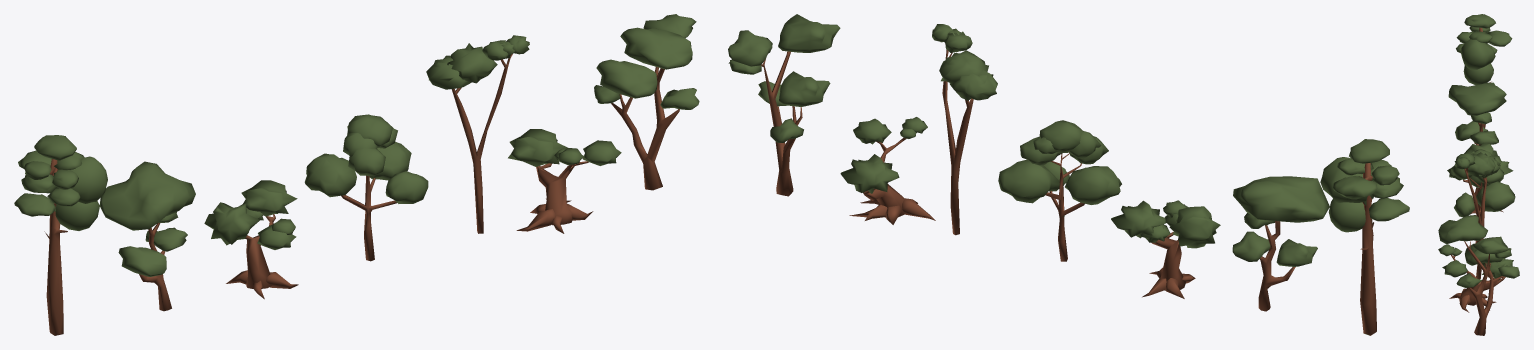
The model's file is Trees.fbx.
3 views of the same model, side by side, from view 1: azimuth 30°, elevation 25°; view 2: azimuth 150°, elevation 25°; view 3: azimuth 270°, elevation 25° (orthographic). The views are drawn at different scales.
Parts seen in each view (by area): view 1: BezierCurve.001, BezierCurve.011, BezierCurve.005, BezierCurve.003, BezierCurve.004, BezierCurve.013, BezierCurve.006; view 2: BezierCurve.005, BezierCurve.001, BezierCurve.011, BezierCurve.003, BezierCurve.004, BezierCurve.006, BezierCurve.013; view 3: BezierCurve.011, BezierCurve.001, BezierCurve.003, BezierCurve.005, BezierCurve.013, BezierCurve.006, BezierCurve.004.
Boxes of the visible parts, left/top/right/bottom form: BezierCurve.001: left=14, top=135, right=107, bottom=335; BezierCurve.011: left=594, top=14, right=699, bottom=190; BezierCurve.005: left=304, top=114, right=428, bottom=261; BezierCurve.003: left=99, top=161, right=195, bottom=311; BezierCurve.004: left=204, top=180, right=298, bottom=299; BezierCurve.013: left=508, top=129, right=621, bottom=233; BezierCurve.006: left=426, top=35, right=529, bottom=233; BezierCurve.005: left=998, top=120, right=1121, bottom=261; BezierCurve.001: left=1320, top=139, right=1409, bottom=335; BezierCurve.011: left=728, top=14, right=840, bottom=196; BezierCurve.003: left=1232, top=176, right=1329, bottom=311; BezierCurve.004: left=1111, top=200, right=1220, bottom=298; BezierCurve.006: left=932, top=24, right=997, bottom=235; BezierCurve.013: left=840, top=117, right=935, bottom=224; BezierCurve.011: left=1438, top=215, right=1519, bottom=335; BezierCurve.001: left=1456, top=14, right=1512, bottom=143; BezierCurve.003: left=1448, top=82, right=1506, bottom=145; BezierCurve.005: left=1451, top=149, right=1515, bottom=243; BezierCurve.013: left=1438, top=244, right=1513, bottom=312; BezierCurve.006: left=1454, top=152, right=1500, bottom=279; BezierCurve.004: left=1447, top=142, right=1513, bottom=214.
Bounding box in the file's own units: 2192 × 615 × 349.
